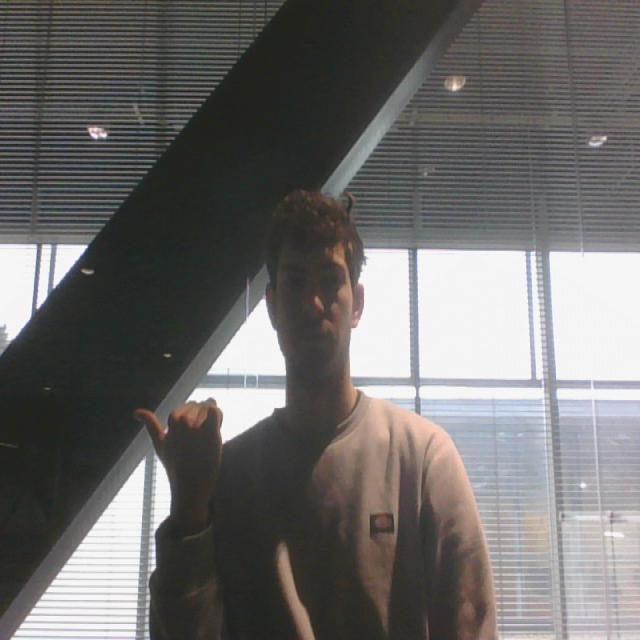left: (126, 391, 230, 510)
